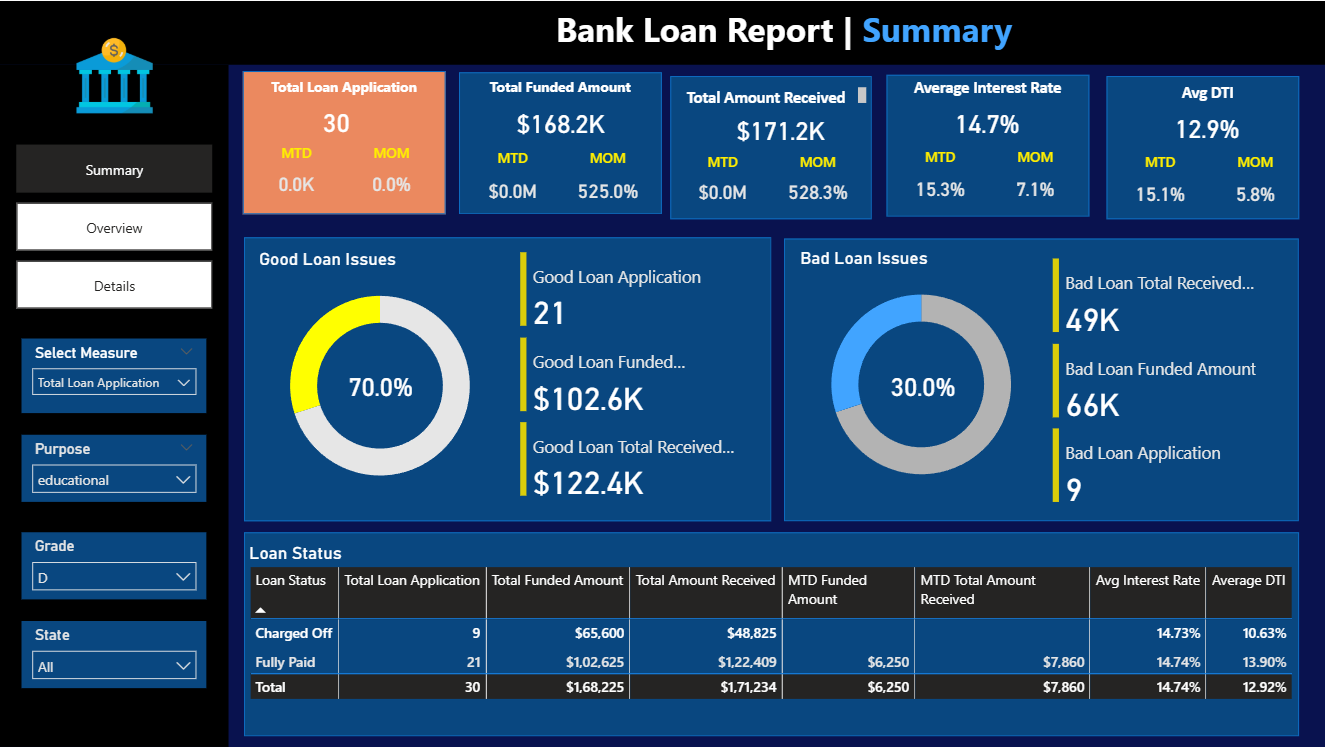

The dashboard page shown, as its layout file describes it:
{"tool":"powerbi","page":{"name":"Summary","canvas":[1280,720],"ordinal":0},"visuals":[{"type":"card","fields":{"Values":["bank_loan_data.Total Funded Amount"]},"box":[462.2,94.3,160.5,49.1],"z":0,"group":"g2"},{"type":"card","fields":{"Values":["bank_loan_data.Avg Interest Rate"]},"box":[873.1,95,160.5,45.8],"z":0,"group":"g4"},{"type":"card","fields":{"Values":["bank_loan_data.Total Loan Application"]},"box":[242.1,98.7,166.5,37.4],"z":0,"group":"g1"},{"type":"card","fields":{"Values":["bank_loan_data.Average DTI"]},"box":[1084.8,99.9,160.5,45.8],"z":0,"group":"g5"},{"type":"card","fields":{"Values":["bank_loan_data.Total Amount Received"]},"box":[673.5,104.2,160.3,42.1],"z":0,"group":"g3"},{"type":"shape","box":[236.2,227.7,509.2,274.2],"z":0},{"type":"card","title":"MTD","fields":{"Values":["bank_loan_data.MTD Loan Application"]},"box":[241,137.3,91.7,61.5],"z":1000,"group":"g1"},{"type":"card","title":"MTD","fields":{"Values":["bank_loan_data.MTD Avg Int Rate"]},"box":[862.8,141.1,91.7,64.9],"z":1000,"group":"g4"},{"type":"card","title":"MTD","fields":{"Values":["bank_loan_data.MTD Funded Application"]},"box":[450.3,142.4,91.7,66.1],"z":1000,"group":"g2"},{"type":"card","title":"MTD","fields":{"Values":["bank_loan_data.MTD Total Amount Received"]},"box":[652.2,145.7,91.7,60.3],"z":1000,"group":"g3"},{"type":"card","title":"MTD","fields":{"Values":["bank_loan_data.MTD Average DTI"]},"box":[1074.5,146,91.7,64.9],"z":1000,"group":"g5"},{"type":"card","fields":{"Values":["bank_loan_data.Good Loan %"]},"box":[304.8,354.9,126.1,35.5],"z":1000},{"type":"shape","box":[0,0,1280,61.5],"z":2000},{"type":"textbox","box":[235,68.5,195.4,27.7],"z":2000,"group":"g1"},{"type":"textbox","box":[444.3,68.5,195.4,29.8],"z":2000,"group":"g2"},{"type":"textbox","box":[856.8,68.5,195.4,29.3],"z":2000,"group":"g4"},{"type":"textbox","box":[1068.5,73.4,195.4,29.3],"z":2000,"group":"g5"},{"type":"textbox","box":[646.2,78.3,195.4,27.2],"z":2000,"group":"g3"},{"type":"shape","box":[235,67.3,195.8,138.3],"z":3000},{"type":"card","title":"MOM","fields":{"Values":["bank_loan_data.MOM Loan Applications"]},"box":[332.7,137.3,91.7,61.5],"z":3000,"group":"g1"},{"type":"card","title":"MOM","fields":{"Values":["bank_loan_data.MOM Avg Int Rate"]},"box":[954.5,141.1,91.7,64.9],"z":3000,"group":"g4"},{"type":"card","title":"MOM","fields":{"Values":["bank_loan_data.MOM Total Funded Amount"]},"box":[542,142.4,91.7,66.1],"z":3000,"group":"g2"},{"type":"card","title":"MOM","fields":{"Values":["bank_loan_data.MOM Total Amount Received"]},"box":[743.9,145.7,91.7,60.3],"z":3000,"group":"g3"},{"type":"card","title":"MOM","fields":{"Values":["bank_loan_data.MOM Average DTI"]},"box":[1166.2,146,91.7,64.9],"z":3000,"group":"g5"},{"type":"shape","box":[0,61.2,221.5,658.5],"z":4000},{"type":"textbox","box":[235.3,0,1044.8,61.5],"z":5000},{"type":"group","id":"g1","title":"Group 1","box":[235,68.5,195.8,131],"z":6000},{"type":"shape","box":[444.3,68.5,195.8,137.1],"z":7000},{"type":"group","id":"g2","title":"Group 1","box":[444.3,68.5,195.8,139.5],"z":8000},{"type":"shape","box":[647.5,72.2,194.6,138.3],"z":9000},{"type":"group","id":"g3","title":"Group 1","box":[646.2,78.3,195.8,127.3],"z":10000},{"type":"shape","box":[856.8,71,195.8,137.1],"z":11000},{"type":"group","id":"g4","title":"Group 1","box":[856.8,68.5,195.8,137.1],"z":12000},{"type":"shape","box":[1068.5,72.2,186,138.3],"z":13000},{"type":"group","id":"g5","title":"Group 1","box":[1068.5,73.4,195.8,137.1],"z":14000},{"type":"donutChart","title":"Good Loan Issues","fields":{"Category":["bank_loan_data.Good vs Bad Loan"],"Y":["bank_loan_data.Total Loan Application"]},"box":[246,238.7,243.6,246],"z":15000},{"type":"cardVisual","fields":{"Data":["bank_loan_data.Good Loan Application","bank_loan_data.Good Loan Funded Amount","bank_loan_data.Good Loan Total Received Amount"]},"box":[498.1,237.4,230.1,246],"z":16000},{"type":"shape","box":[757.6,228.9,496.9,272.9],"z":17000},{"type":"donutChart","title":"Bad Loan Issues","fields":{"Category":["bank_loan_data.Good vs Bad Loan"],"Y":["bank_loan_data.Total Loan Application"]},"box":[768.6,237.4,243.6,246],"z":18000},{"type":"card","fields":{"Values":["bank_loan_data.Bad Loan %"]},"box":[828.6,354.9,126.1,35.5],"z":19000},{"type":"cardVisual","fields":{"Data":["bank_loan_data.Bad Loan Total Received Amount","bank_loan_data.Bad Loan Funded Amount","bank_loan_data.Bad Loan Application"]},"box":[1012.2,243.6,230.1,246],"z":20000},{"type":"shape","box":[236.2,512.8,1018.3,197.1],"z":21000},{"type":"tableEx","title":"Loan Status","fields":{"Values":["bank_loan_data.loan_status","bank_loan_data.Total Loan Application","bank_loan_data.Total Funded Amount","bank_loan_data.Total Amount Received","bank_loan_data.MTD Funded Amount","bank_loan_data.MTD Total Amount Received","bank_loan_data.Avg Interest Rate","bank_loan_data.Average DTI"]},"box":[236.2,522.6,1018.3,187.3],"z":22000},{"type":"slicer","fields":{"Values":["bank_loan_data.grade"]},"box":[21.7,512.7,178.6,65.1],"z":23000},{"type":"slicer","fields":{"Values":["bank_loan_data.address_state"]},"box":[22,598.5,178.7,64.9],"z":24000},{"type":"slicer","fields":{"Values":["bank_loan_data.purpose"]},"box":[21.7,418.6,178.6,65.1],"z":25000},{"type":"image","box":[70,29,83.2,85.7],"z":26000},{"type":"pageNavigator","box":[16.9,138.7,189.4,158],"z":29001},{"type":"slicer","fields":{"Values":["Select Measure.Select Measure"]},"box":[21.7,325.7,178.6,72.4],"z":29002}]}

Visuals, with their boxes in screenshot pixels (x1, y1, x2, y2), scaled from the page's 1280x720 canvas onto the 1325x747 screenshot:
card - bank_loan_data.Total Funded Amount: [x1=478, y1=98, x2=645, y2=149]
card - bank_loan_data.Avg Interest Rate: [x1=904, y1=99, x2=1070, y2=146]
card - bank_loan_data.Total Loan Application: [x1=251, y1=102, x2=423, y2=141]
card - bank_loan_data.Average DTI: [x1=1123, y1=104, x2=1289, y2=151]
card - bank_loan_data.Total Amount Received: [x1=697, y1=108, x2=863, y2=152]
shape: [x1=245, y1=236, x2=772, y2=521]
"MTD" card: [x1=249, y1=142, x2=344, y2=206]
"MTD" card: [x1=893, y1=146, x2=988, y2=214]
"MTD" card: [x1=466, y1=148, x2=561, y2=216]
"MTD" card: [x1=675, y1=151, x2=770, y2=214]
"MTD" card: [x1=1112, y1=151, x2=1207, y2=219]
card - bank_loan_data.Good Loan %: [x1=316, y1=368, x2=446, y2=405]
shape: [x1=0, y1=0, x2=1324, y2=64]
textbox: [x1=243, y1=71, x2=446, y2=100]
textbox: [x1=460, y1=71, x2=662, y2=102]
textbox: [x1=887, y1=71, x2=1089, y2=101]
textbox: [x1=1106, y1=76, x2=1308, y2=107]
textbox: [x1=669, y1=81, x2=871, y2=109]
shape: [x1=243, y1=70, x2=446, y2=213]
"MOM" card: [x1=344, y1=142, x2=439, y2=206]
"MOM" card: [x1=988, y1=146, x2=1083, y2=214]
"MOM" card: [x1=561, y1=148, x2=656, y2=216]
"MOM" card: [x1=770, y1=151, x2=865, y2=214]
"MOM" card: [x1=1207, y1=151, x2=1302, y2=219]
shape: [x1=0, y1=63, x2=229, y2=746]
textbox: [x1=244, y1=0, x2=1324, y2=64]
"Group 1" group: [x1=243, y1=71, x2=446, y2=207]
shape: [x1=460, y1=71, x2=663, y2=213]
"Group 1" group: [x1=460, y1=71, x2=663, y2=216]
shape: [x1=670, y1=75, x2=872, y2=218]
"Group 1" group: [x1=669, y1=81, x2=872, y2=213]
shape: [x1=887, y1=74, x2=1090, y2=216]
"Group 1" group: [x1=887, y1=71, x2=1090, y2=213]
shape: [x1=1106, y1=75, x2=1299, y2=218]
"Group 1" group: [x1=1106, y1=76, x2=1309, y2=218]
"Good Loan Issues" donutChart: [x1=255, y1=248, x2=507, y2=503]
cardVisual - bank_loan_data.Good Loan Application x bank_loan_data.Good Loan Funded Amount: [x1=516, y1=246, x2=754, y2=502]
shape: [x1=784, y1=237, x2=1299, y2=521]
"Bad Loan Issues" donutChart: [x1=796, y1=246, x2=1048, y2=502]
card - bank_loan_data.Bad Loan %: [x1=858, y1=368, x2=988, y2=405]
cardVisual - bank_loan_data.Bad Loan Total Received Amount x bank_loan_data.Bad Loan Funded Amount: [x1=1048, y1=253, x2=1286, y2=508]
shape: [x1=245, y1=532, x2=1299, y2=737]
"Loan Status" tableEx: [x1=245, y1=542, x2=1299, y2=737]
slicer - bank_loan_data.grade: [x1=22, y1=532, x2=207, y2=599]
slicer - bank_loan_data.address_state: [x1=23, y1=621, x2=208, y2=688]
slicer - bank_loan_data.purpose: [x1=22, y1=434, x2=207, y2=502]
image: [x1=72, y1=30, x2=159, y2=119]
pageNavigator: [x1=17, y1=144, x2=214, y2=308]
slicer - Select Measure.Select Measure: [x1=22, y1=338, x2=207, y2=413]
